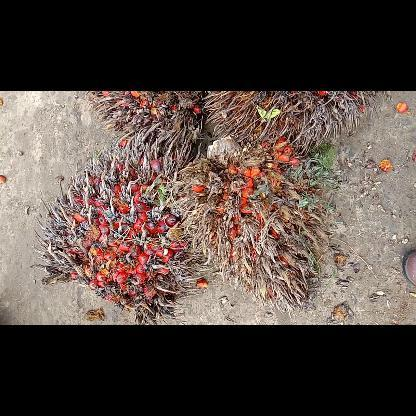Terlalu masak: (164, 125, 334, 321), (33, 142, 215, 324), (82, 91, 214, 159)
